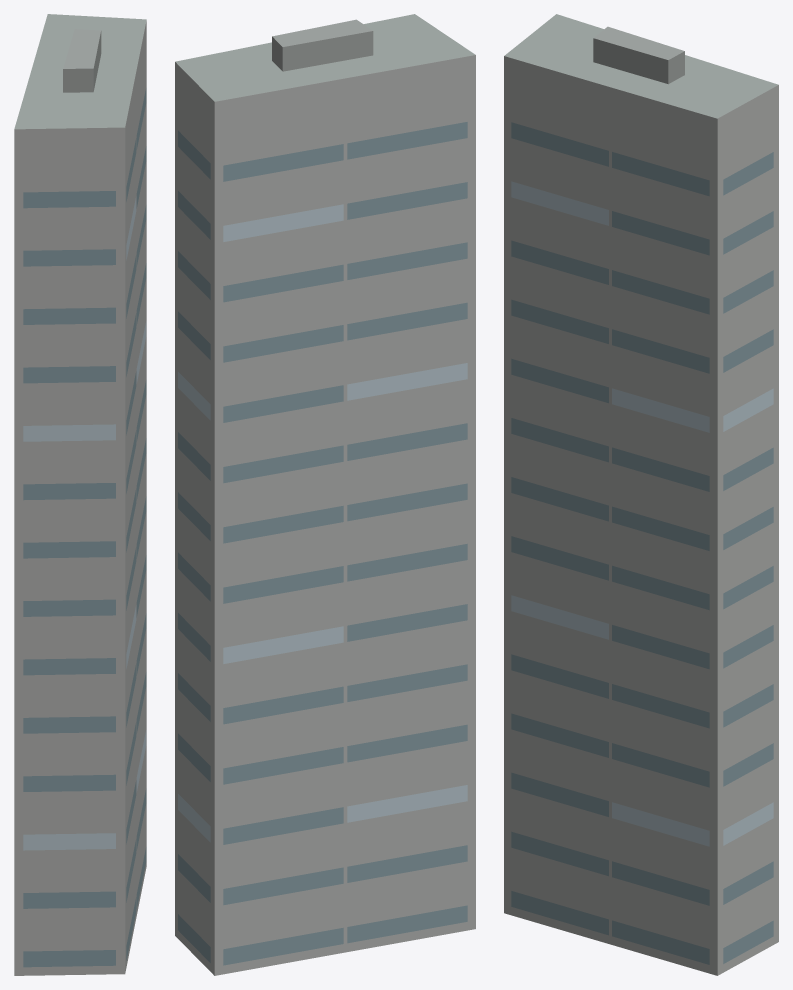
File: fallback-jamsil-ricenz-223.glb
3 views of the same model, side by side, from view 1: azimuth 30°, elevation 25°; view 2: azimuth 150°, elevation 25°; view 3: azimuth 270°, elevation 25° (orthographic). The views are drawn at different scales.
Visible parts, largest first — view 1: fallback-jamsil-ricenz-223; view 2: fallback-jamsil-ricenz-223; view 3: fallback-jamsil-ricenz-223.
Boxes of the visible parts, x1=… form: fallback-jamsil-ricenz-223: x1=14, y1=14, x2=146, y2=975; fallback-jamsil-ricenz-223: x1=175, y1=14, x2=475, y2=975; fallback-jamsil-ricenz-223: x1=504, y1=14, x2=778, y2=975.
Size of the model in its own units: 22.43 by 88 by 24.87.
